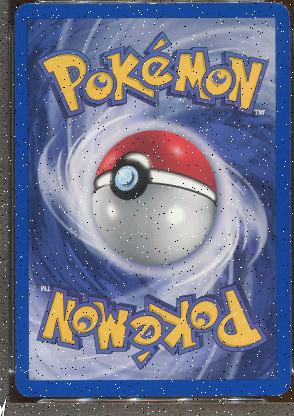Card: (10, 0, 291, 399)
Corner Wear: (277, 2, 290, 14)
Edge Wear: (145, 2, 239, 4), (268, 390, 285, 396), (287, 20, 289, 66), (15, 356, 17, 379), (26, 2, 43, 4), (287, 275, 289, 282), (248, 394, 255, 396), (41, 395, 47, 397), (288, 191, 290, 196), (287, 248, 289, 252), (289, 306, 290, 310)
Scratch: (127, 389, 134, 397)
